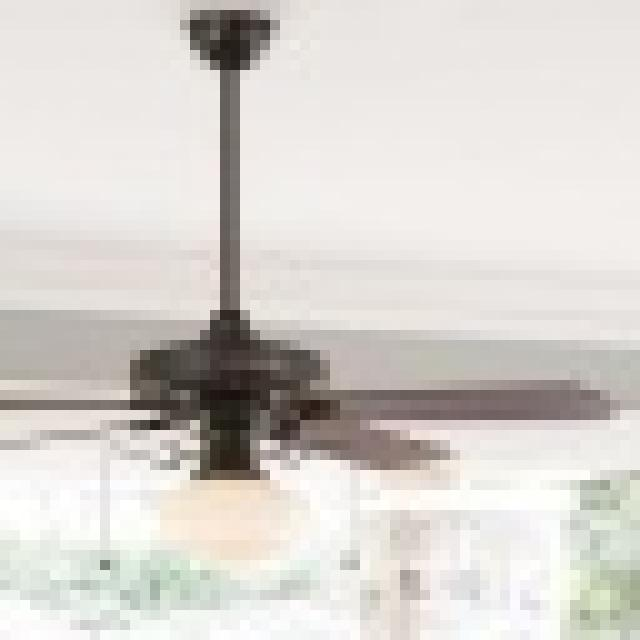Bulb: (0, 250, 620, 540)
